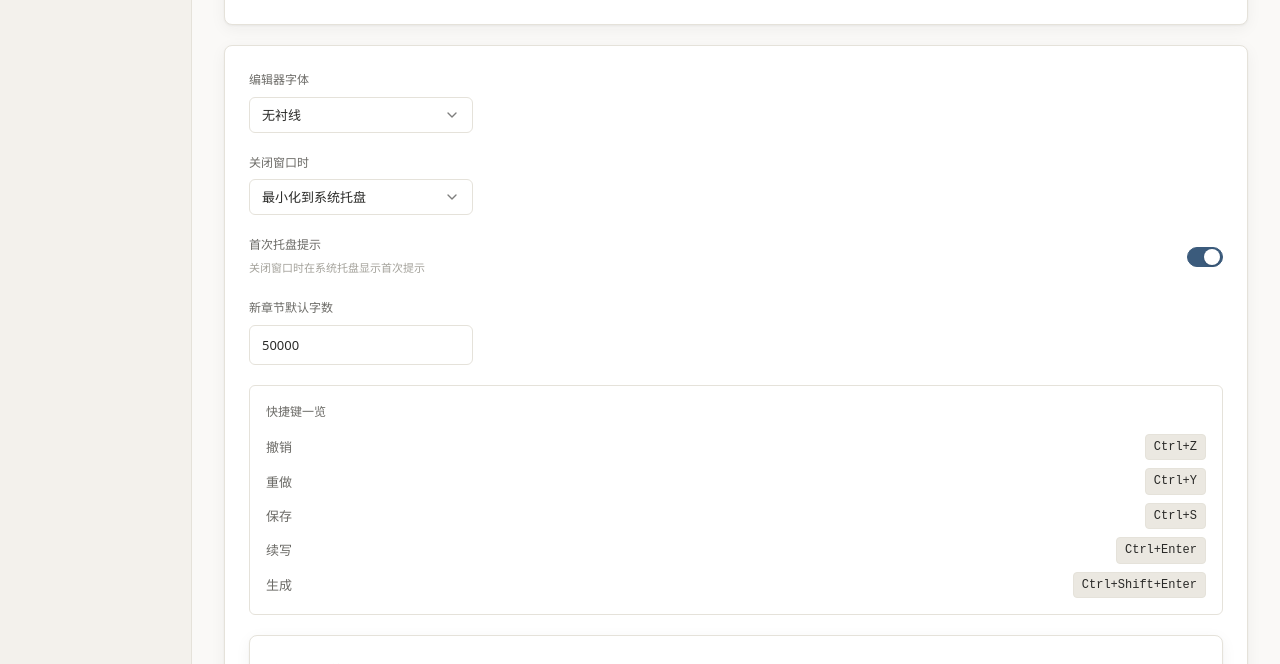
Test: 设置页 — #105 修复批二次迭代（交叉路径 RED 契约） › 🔴-A 播种守卫收紧：general 先改 default_words → 切 agent 仍按项目 config 播种（四开关状态与项目 config 一致）
This screenshot has width=1280, height=664.
(page scrolled)
Replace the text in the number field named "新章节默认字数" with "80000": (361, 345) [249,324,473,365]
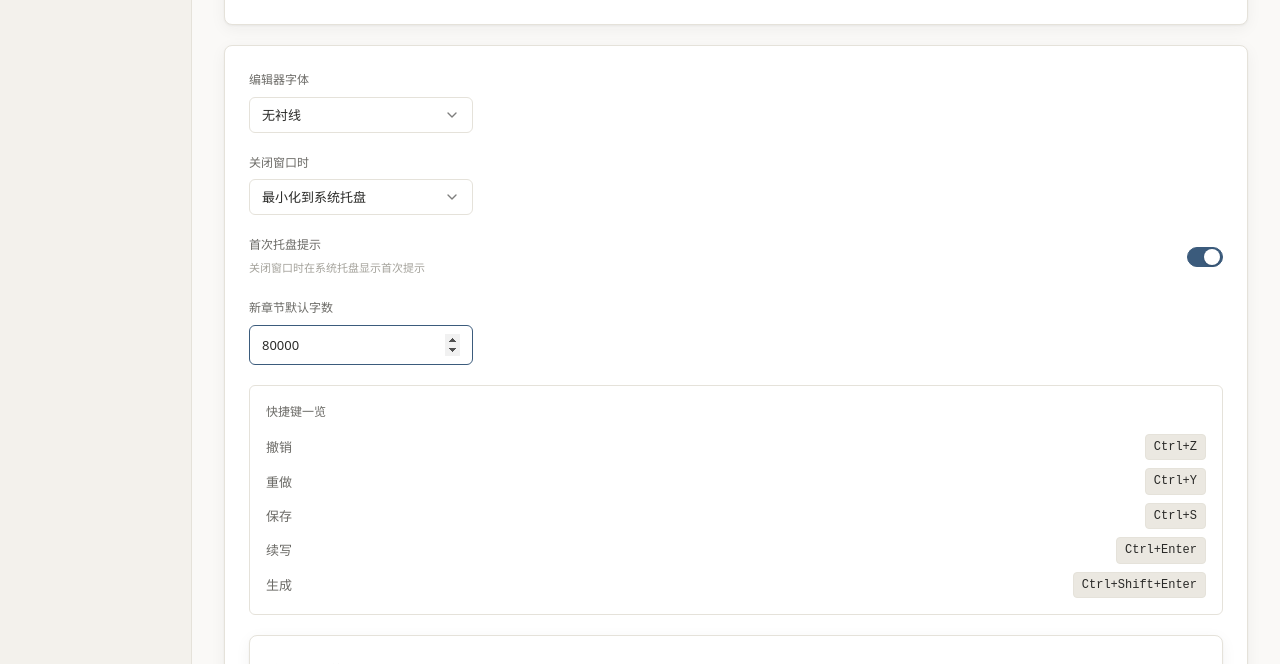
Press Tab
(page scrolled)
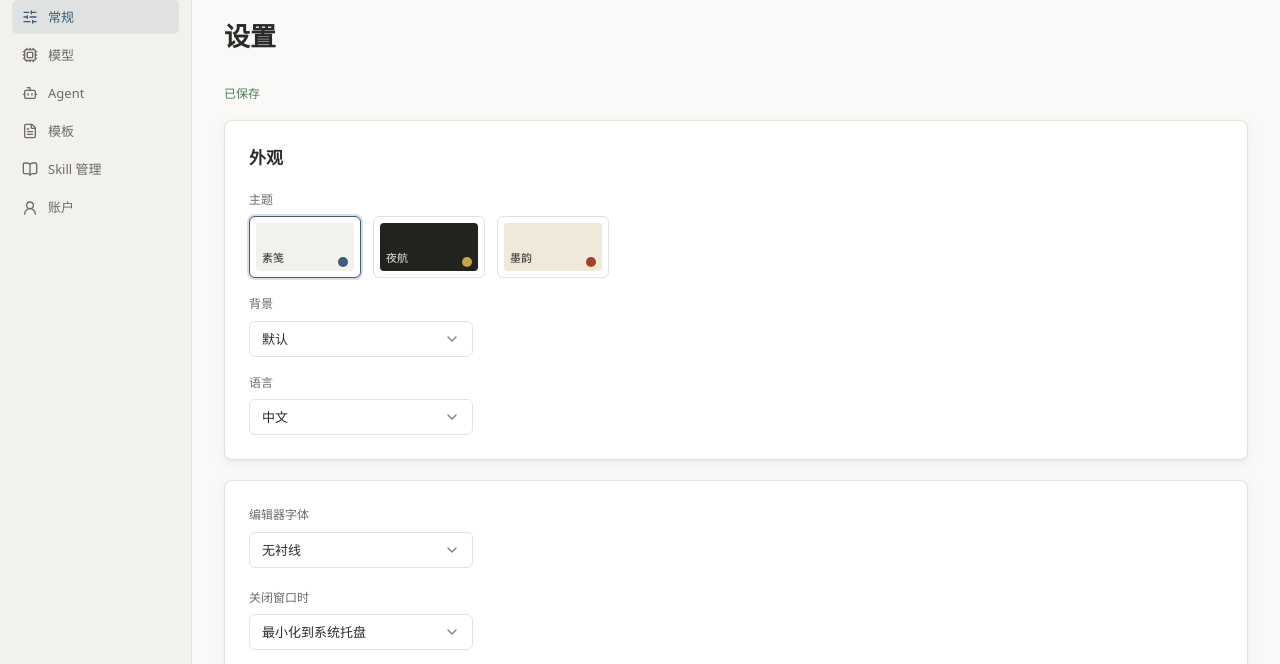
Click the button "Agent": (96, 93) [12,76,179,110]
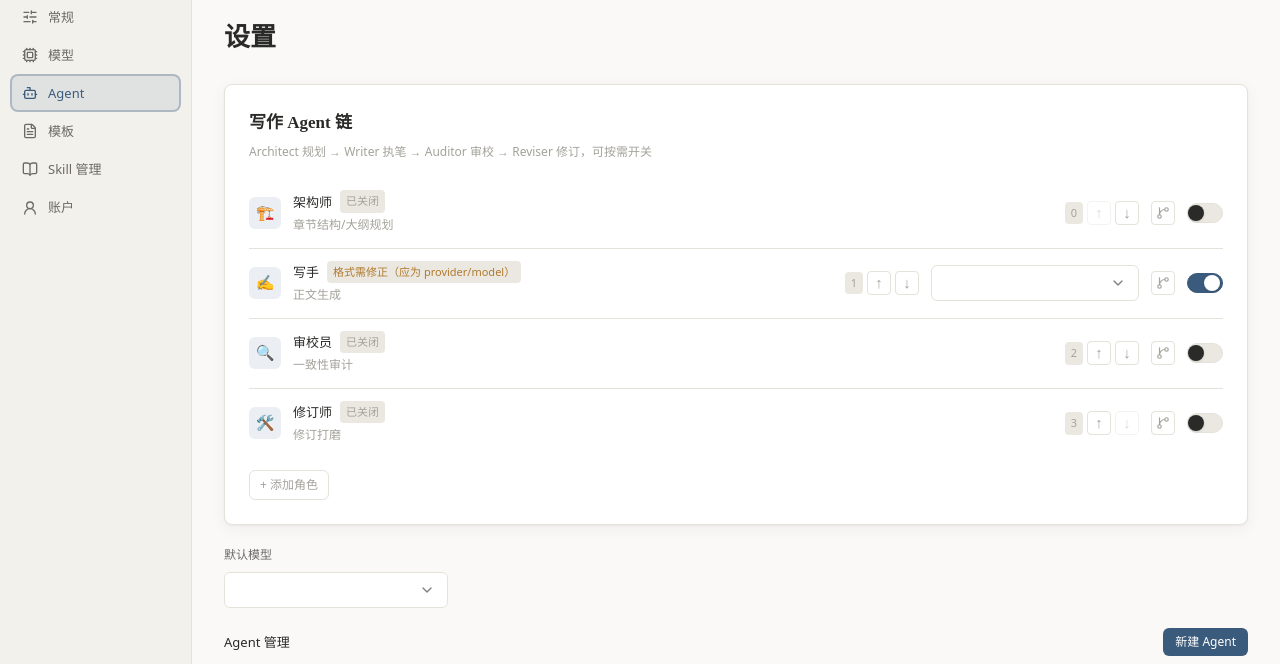
Check: the switch named "写手" is checked, box [1187,273,1223,293]
Check: the switch named "架构师" is not checked, box [1187,203,1223,223]
Check: the switch named "审校员" is not checked, box [1187,343,1223,363]
